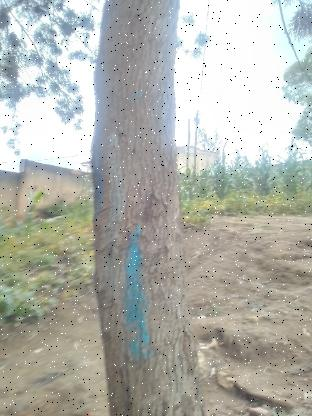tree: (88, 0, 218, 416)
